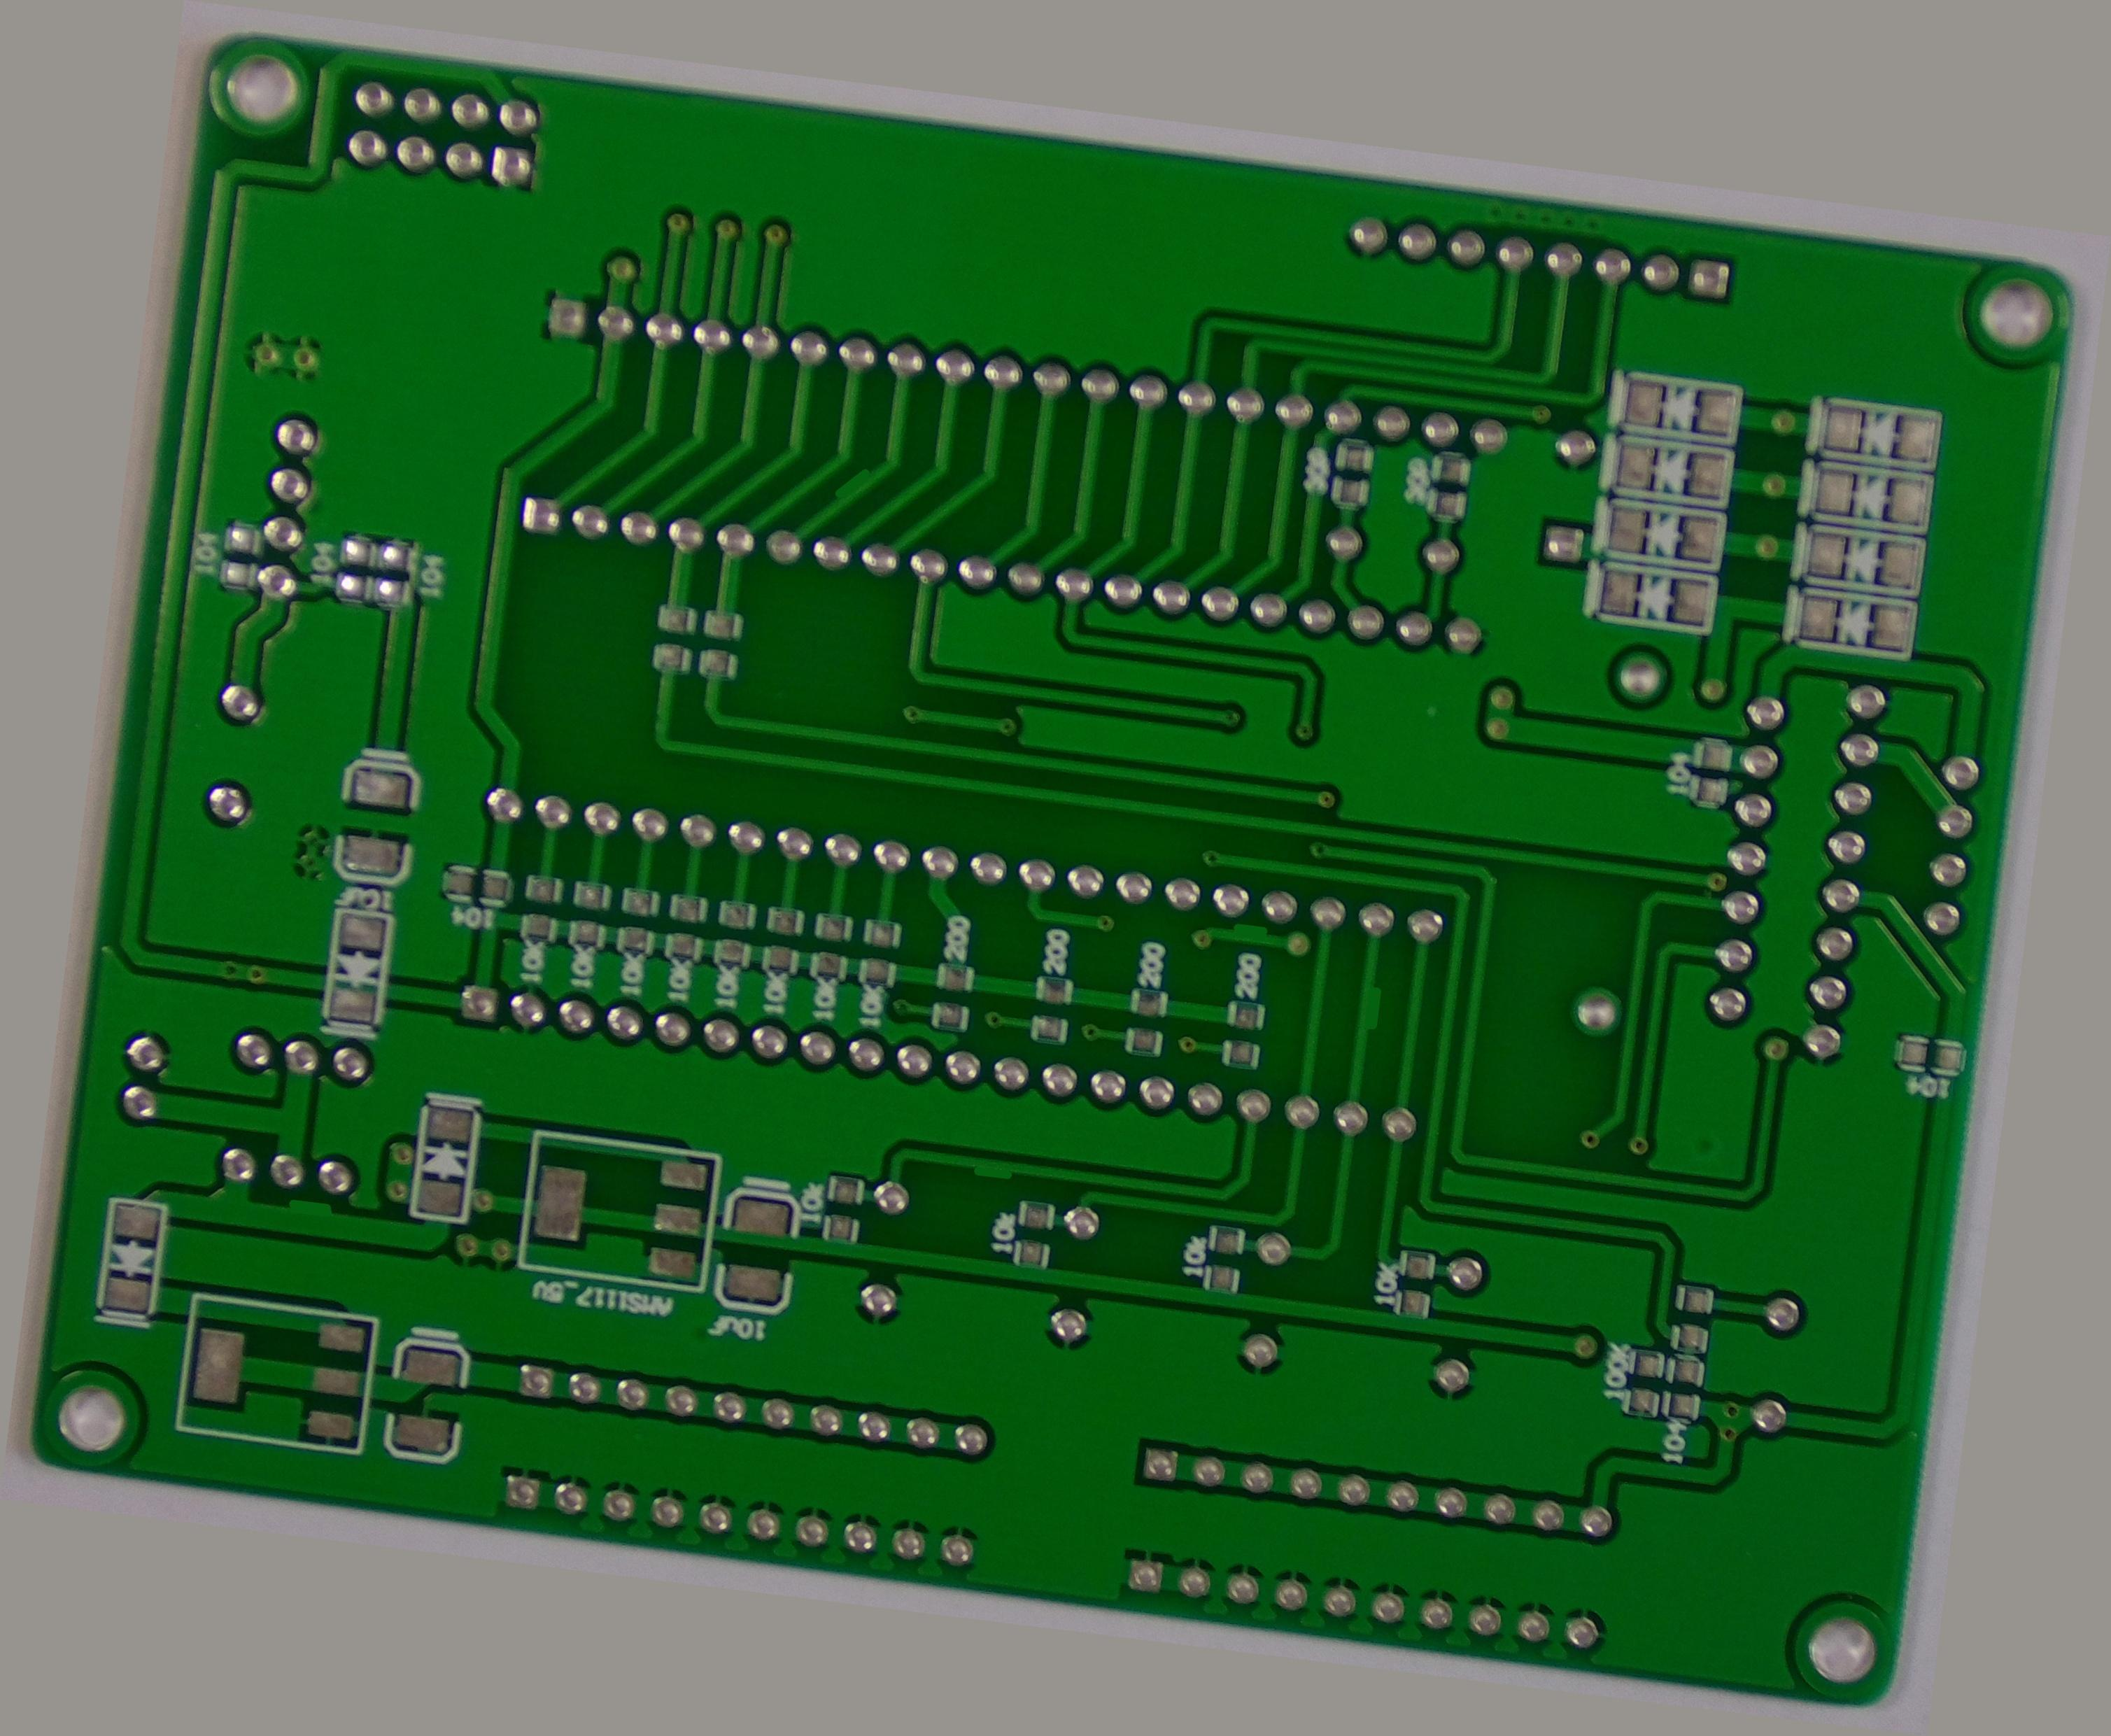spur: (258, 1338, 333, 1384), (1392, 945, 1431, 1019), (759, 430, 814, 479), (996, 1203, 1059, 1238), (1248, 894, 1299, 929)
